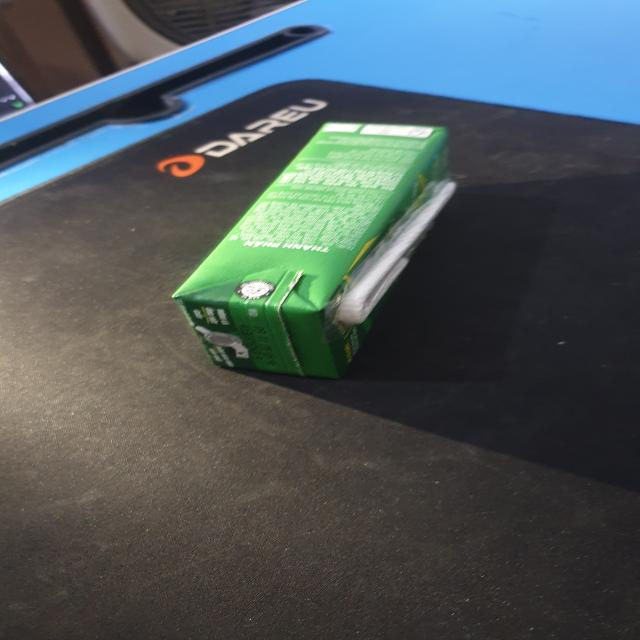Milo: (167, 121, 461, 388)
